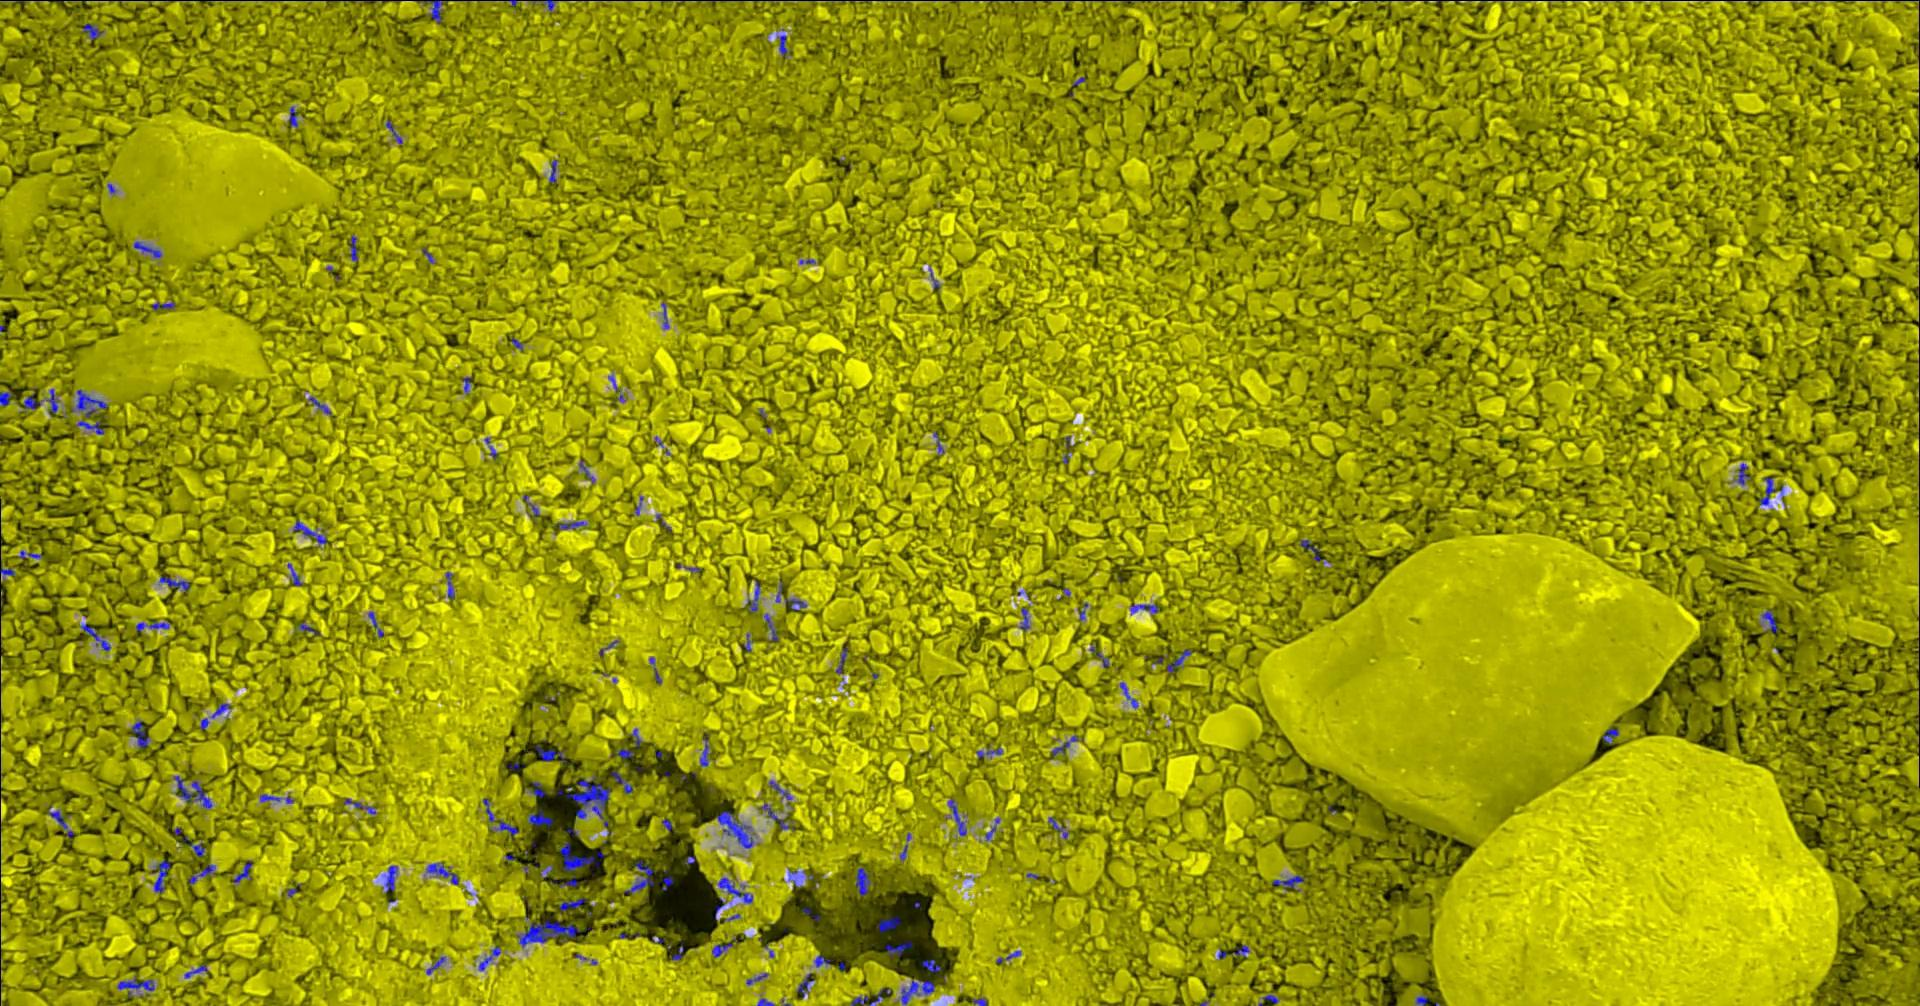ant: (568, 774, 612, 827), (518, 920, 580, 948), (72, 389, 109, 434), (717, 810, 756, 848), (561, 841, 604, 871), (175, 775, 215, 807), (626, 860, 655, 894), (719, 876, 754, 903), (81, 622, 112, 650), (295, 520, 328, 545), (902, 979, 935, 1005), (119, 976, 156, 997), (762, 803, 791, 829), (50, 808, 75, 837), (418, 0, 450, 23), (949, 798, 968, 835), (852, 987, 891, 1005), (428, 862, 460, 884), (1302, 539, 1330, 561), (1168, 648, 1192, 672), (537, 744, 568, 763), (155, 859, 171, 893), (771, 780, 792, 805), (1053, 734, 1079, 754), (611, 770, 634, 793), (480, 946, 502, 970), (190, 864, 217, 883), (797, 972, 817, 998), (1272, 874, 1305, 889), (1759, 478, 1777, 506), (747, 580, 762, 612), (345, 798, 377, 813), (1049, 815, 1069, 838), (1121, 682, 1139, 708), (161, 575, 190, 591), (133, 720, 150, 747), (530, 808, 554, 826), (135, 241, 163, 257), (764, 614, 780, 641), (857, 868, 872, 895), (235, 860, 254, 882), (560, 897, 589, 911), (310, 396, 333, 414), (383, 865, 399, 892), (886, 941, 913, 956), (387, 119, 404, 144), (1763, 608, 1779, 633), (370, 611, 385, 636), (1091, 647, 1110, 667), (83, 22, 104, 39), (137, 621, 170, 633), (879, 916, 902, 932), (497, 819, 521, 835), (701, 732, 711, 766), (837, 647, 850, 673), (428, 956, 447, 974), (185, 964, 210, 978), (262, 793, 295, 803), (47, 387, 58, 415), (290, 563, 303, 586), (484, 798, 497, 822), (712, 942, 734, 956), (24, 391, 42, 408), (554, 875, 579, 887), (1738, 464, 1752, 484), (977, 747, 1004, 757), (1604, 728, 1620, 744), (212, 702, 231, 716), (1131, 605, 1161, 614), (923, 959, 943, 972), (532, 781, 549, 796), (447, 572, 456, 600), (786, 598, 808, 610), (664, 869, 676, 890), (535, 0, 557, 10), (555, 521, 585, 528), (350, 235, 359, 260), (778, 36, 789, 57), (1021, 607, 1031, 629), (152, 301, 177, 310), (190, 842, 206, 856), (1234, 944, 1251, 956), (19, 550, 44, 558), (290, 105, 298, 127), (550, 159, 557, 182), (1, 391, 13, 406), (817, 955, 832, 967), (618, 748, 635, 758), (1417, 993, 1429, 1005)
